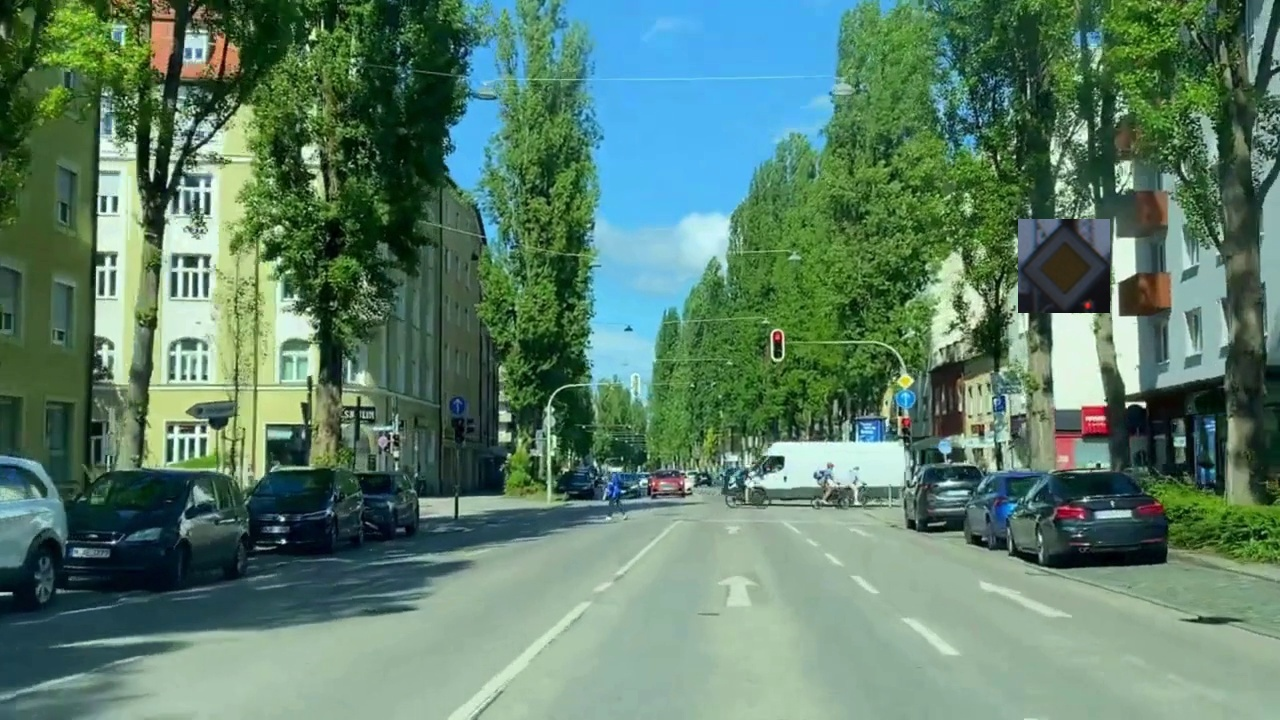Priority road: (1018, 219, 1110, 313)
